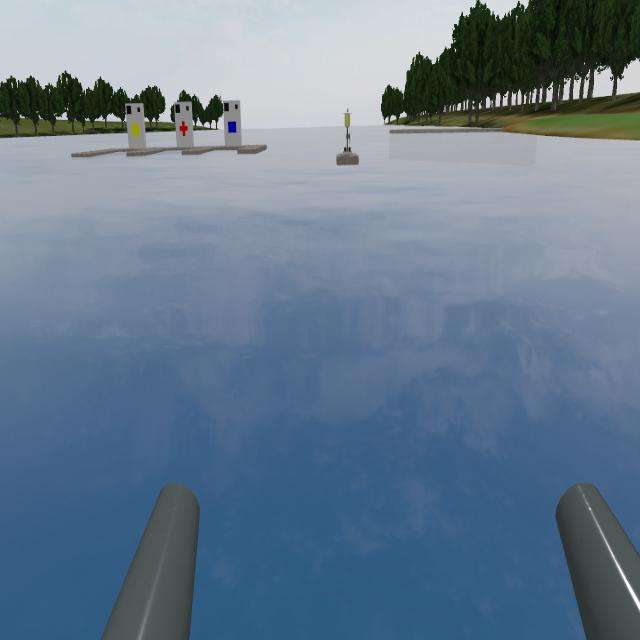yellow_pole: (342, 104, 354, 130)
